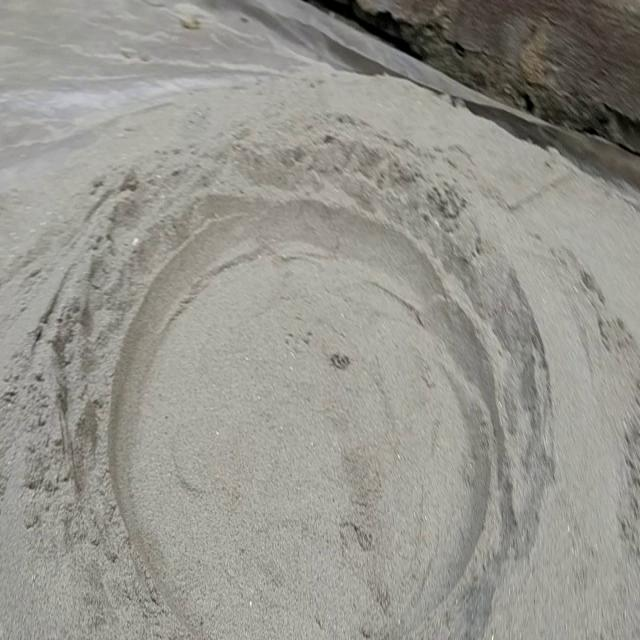C40: (101, 197, 519, 639)
